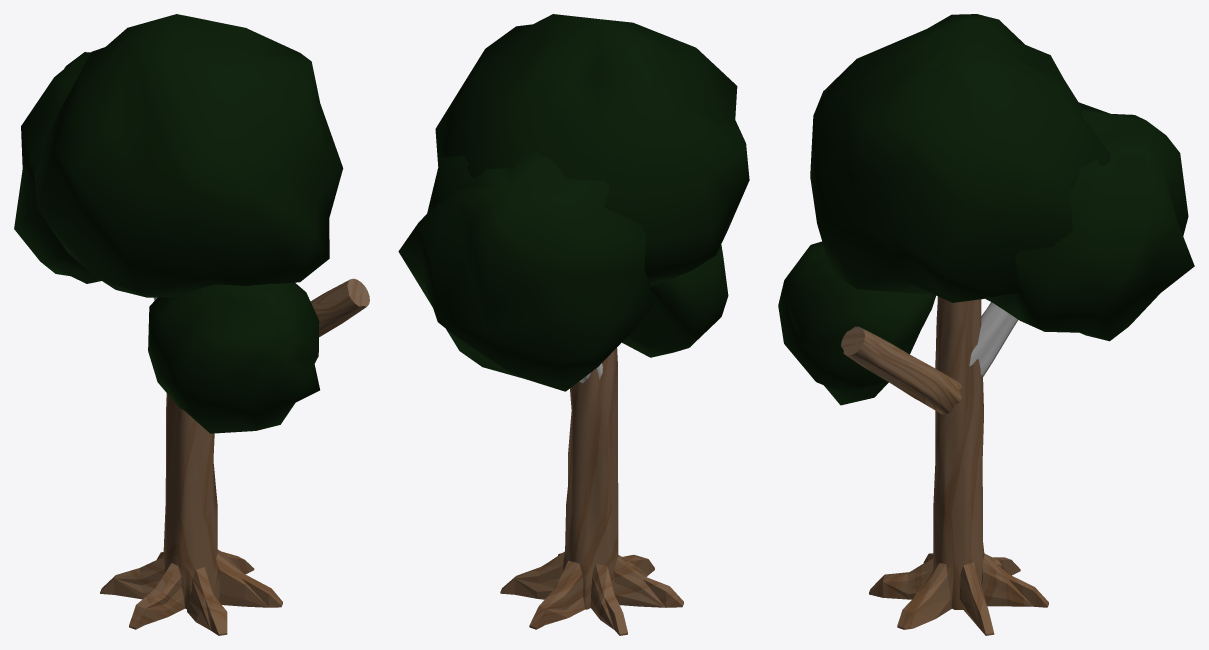
File: Arbol.fbx
The picture shows the model from 3 angles, left to right: view 1: azimuth 30°, elevation 25°; view 2: azimuth 150°, elevation 25°; view 3: azimuth 270°, elevation 25°; orthographic projection.
Parts seen in each view (by area): view 1: Sphere697, Sphere698, Cylinder530, Sphere699, Cylinder532; view 2: Sphere697, Sphere699, Cylinder530, Sphere698; view 3: Sphere697, Sphere699, Cylinder530, Sphere698, Cylinder532, Cylinder531.
Boxes of the visible parts, x1,y1,x2,y2 form: Sphere697: [34, 14, 343, 297]; Sphere698: [148, 282, 319, 433]; Cylinder530: [100, 393, 282, 635]; Sphere699: [14, 52, 101, 283]; Cylinder532: [310, 278, 369, 337]; Sphere697: [435, 14, 749, 286]; Sphere699: [398, 149, 654, 391]; Cylinder530: [500, 348, 683, 635]; Sphere698: [622, 244, 728, 357]; Sphere697: [810, 14, 1110, 302]; Sphere699: [985, 102, 1194, 341]; Cylinder530: [869, 296, 1048, 635]; Sphere698: [778, 241, 936, 405]; Cylinder532: [841, 326, 961, 414]; Cylinder531: [969, 302, 1018, 377].
Bounding box in the file's own units: 614 × 1238 × 813.
